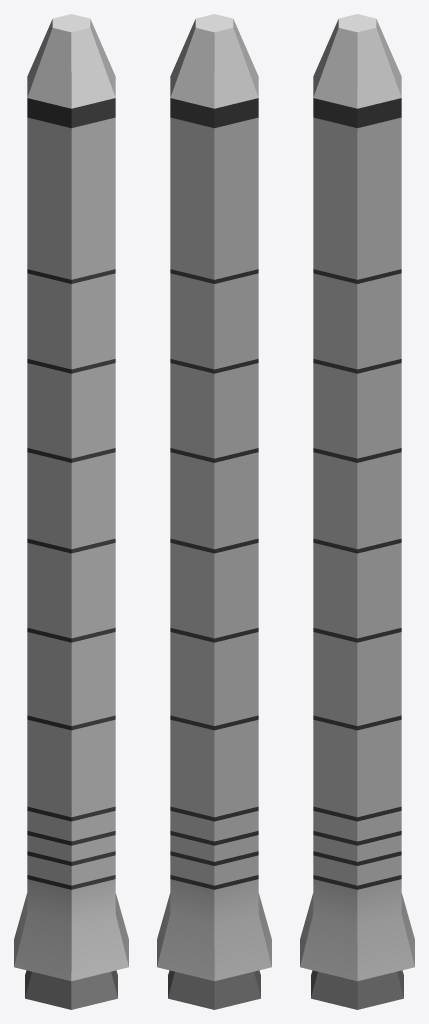
Rendered from SM_Veh_Thruster_03.fbx.
3 renders of one model, left to right at view 1: azimuth 30°, elevation 25°; view 2: azimuth 150°, elevation 25°; view 3: azimuth 330°, elevation 25°, orthographic.
Visible parts, largest first — view 1: SM_Veh_Thruster_03; view 2: SM_Veh_Thruster_03; view 3: SM_Veh_Thruster_03.
Part boxes in pixels (bbox=[...]): SM_Veh_Thruster_03: bbox=[14, 14, 128, 1009]; SM_Veh_Thruster_03: bbox=[157, 14, 271, 1009]; SM_Veh_Thruster_03: bbox=[300, 14, 414, 1009].
Bounding box in the file's own units: 1.37 × 11.02 × 1.19.
